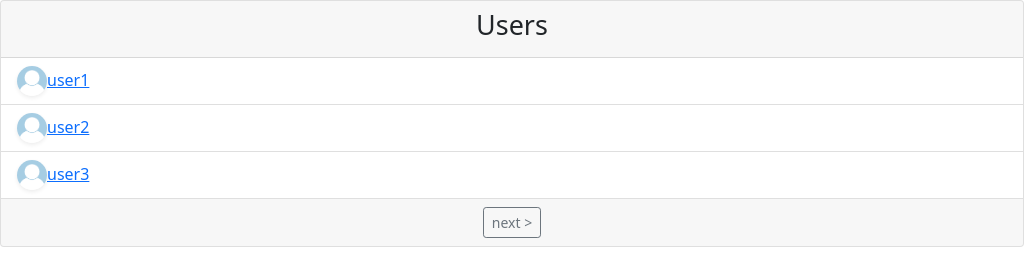
Test: User List › displays previous page after clicking previous page link
Expected: the link "user1" is shown, x1=17 y1=69 x2=89 y2=91
What coordinates should you click on to do the following:
click the button "next >"
I would click on:
 (512, 223)
Its box is x1=483 y1=207 x2=541 y2=238.
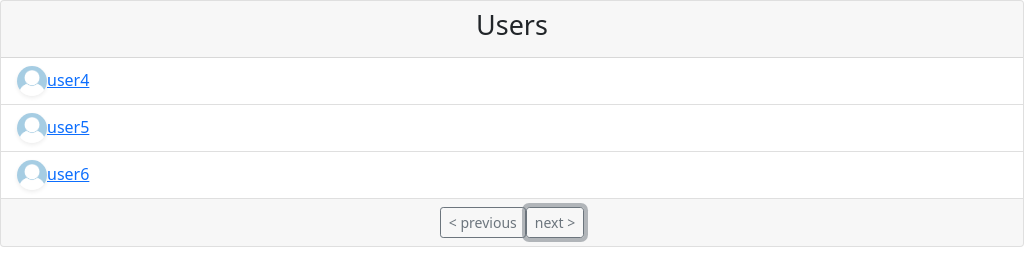
Now the link "user4" is shown, box x1=17 y1=69 x2=89 y2=91
What coordinates should you click on to do the following:
click the button "< previous"
I would click on:
 (483, 223)
Its box is x1=440 y1=207 x2=526 y2=238.
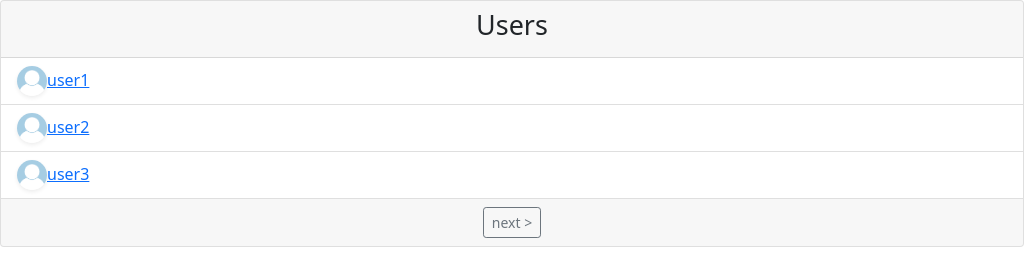
Now the link "user1" is shown, box x1=17 y1=69 x2=89 y2=91
